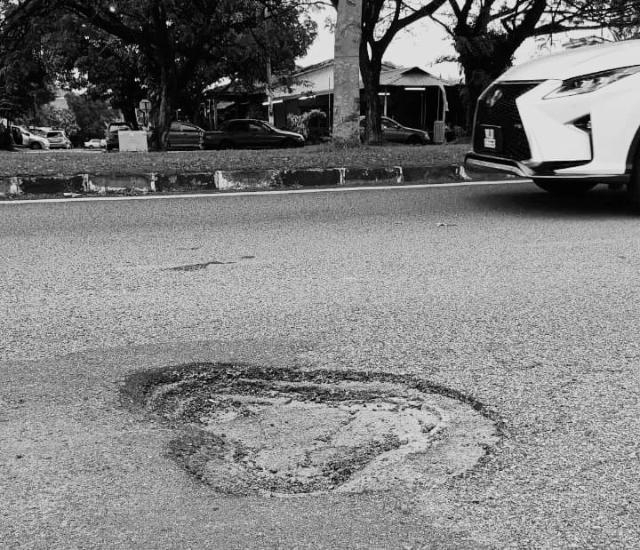Pothole: (128, 362, 506, 502)
